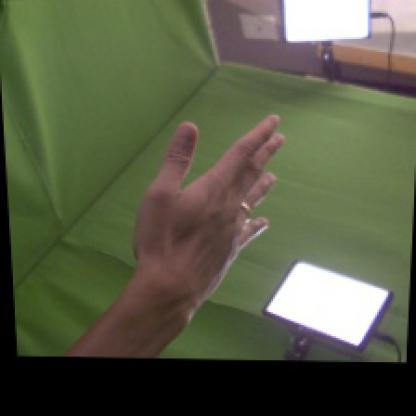Hand: (133, 113, 286, 303)
